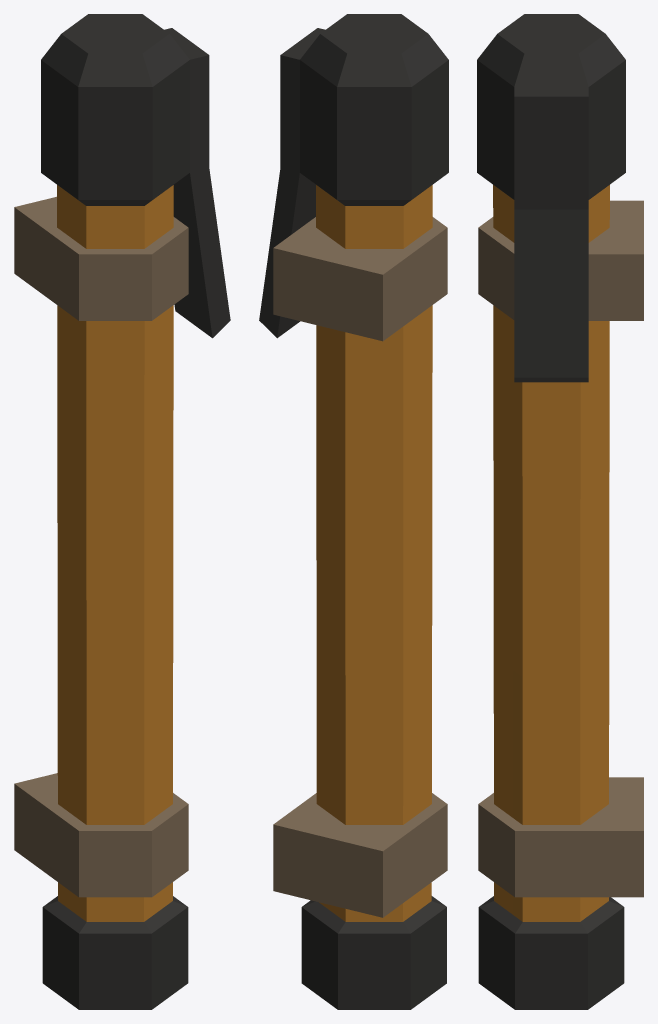
Rendered from GlowStick_01_SM.FBX.
3 views of the same model, side by side, from view 1: azimuth 30°, elevation 25°; view 2: azimuth 150°, elevation 25°; view 3: azimuth 270°, elevation 25° (orthographic).
Visible parts, largest first — view 1: GlowStick_01_SM; view 2: GlowStick_01_SM; view 3: GlowStick_01_SM.
Boxes of the visible parts, x1,y1,x2,y2 form: GlowStick_01_SM: [14, 14, 230, 1009]; GlowStick_01_SM: [259, 14, 448, 1009]; GlowStick_01_SM: [477, 14, 643, 1009].
Size of what is drawn, in the model's own units: 2.75 by 2.61 by 16.38.
